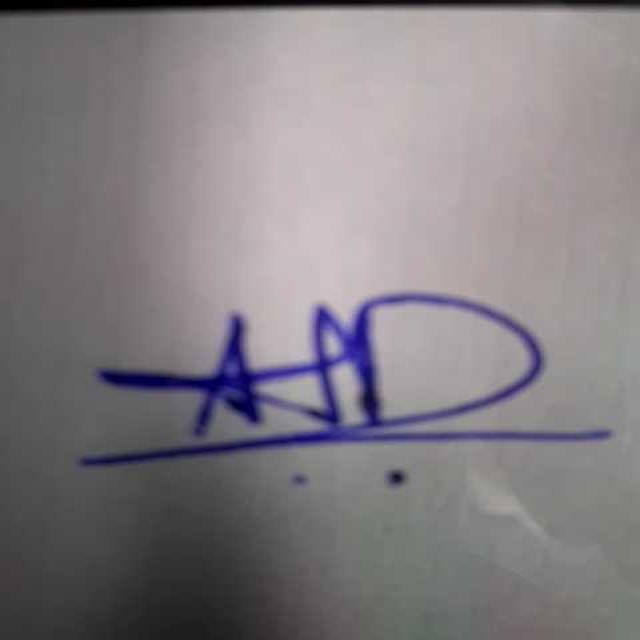signature: (57, 274, 629, 490)
